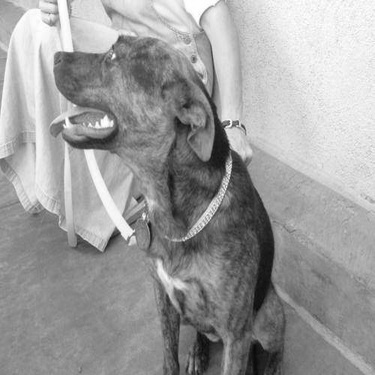dog: (32, 25, 288, 373)
